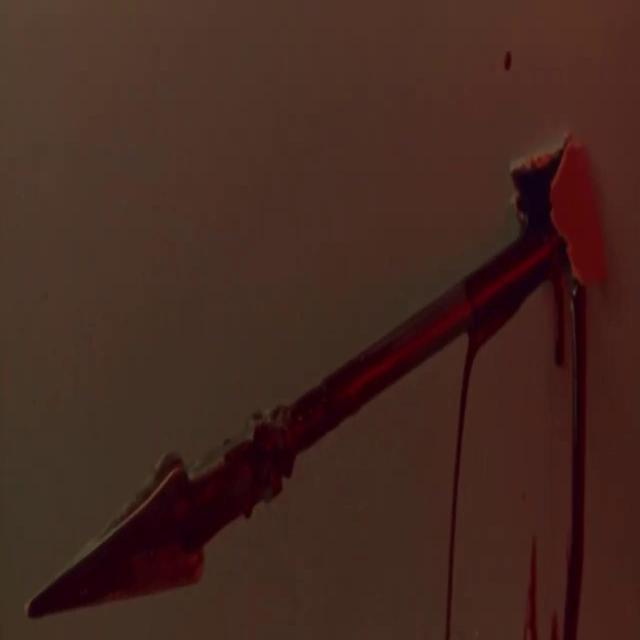flood: (546, 287, 604, 621)
